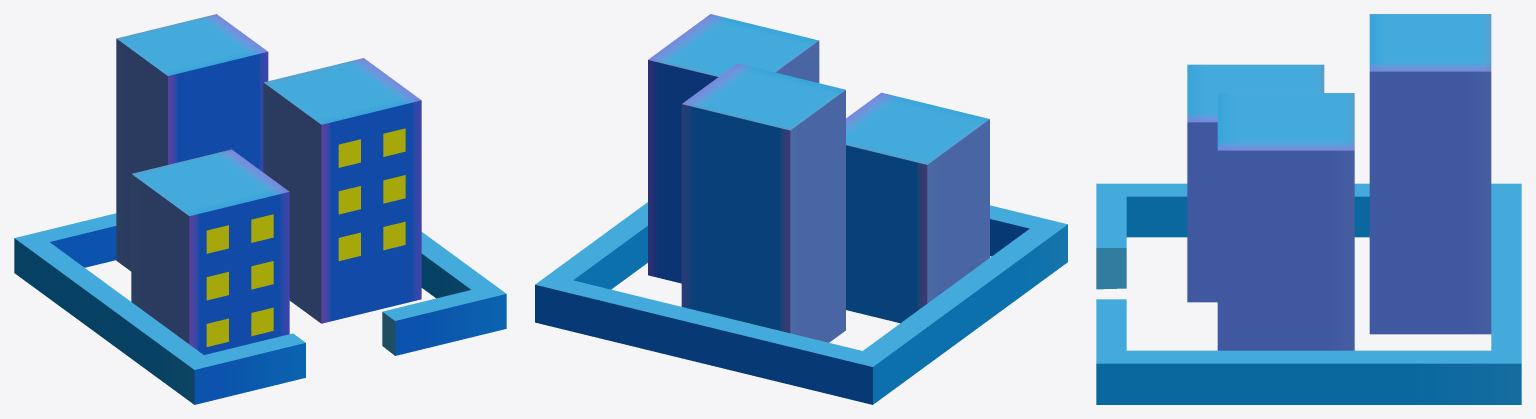
File: City.BlueMoon.glb
3 views of the same model, side by side, from view 1: azimuth 30°, elevation 25°; view 2: azimuth 150°, elevation 25°; view 3: azimuth 270°, elevation 25° (orthographic). The views are drawn at different scales.
Parts seen in each view (by area): view 1: City.BlueMoon; view 2: City.BlueMoon; view 3: City.BlueMoon.
Boxes of the visible parts, x1,y1,x2,y2 form: City.BlueMoon: (14, 14, 506, 404); City.BlueMoon: (535, 14, 1067, 404); City.BlueMoon: (1096, 14, 1521, 404).
Size of the model in its own units: 2.8 by 1.91 by 2.8.
2 materials, 1 textured.
